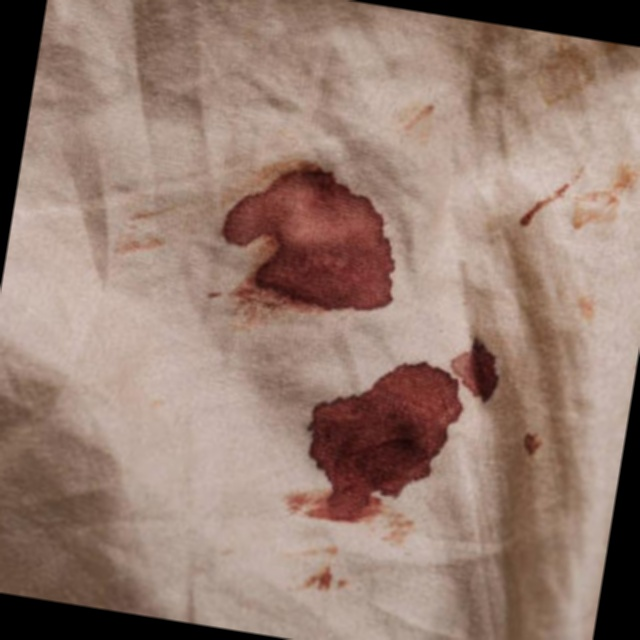blood: (287, 325, 508, 545), (218, 164, 410, 318)
